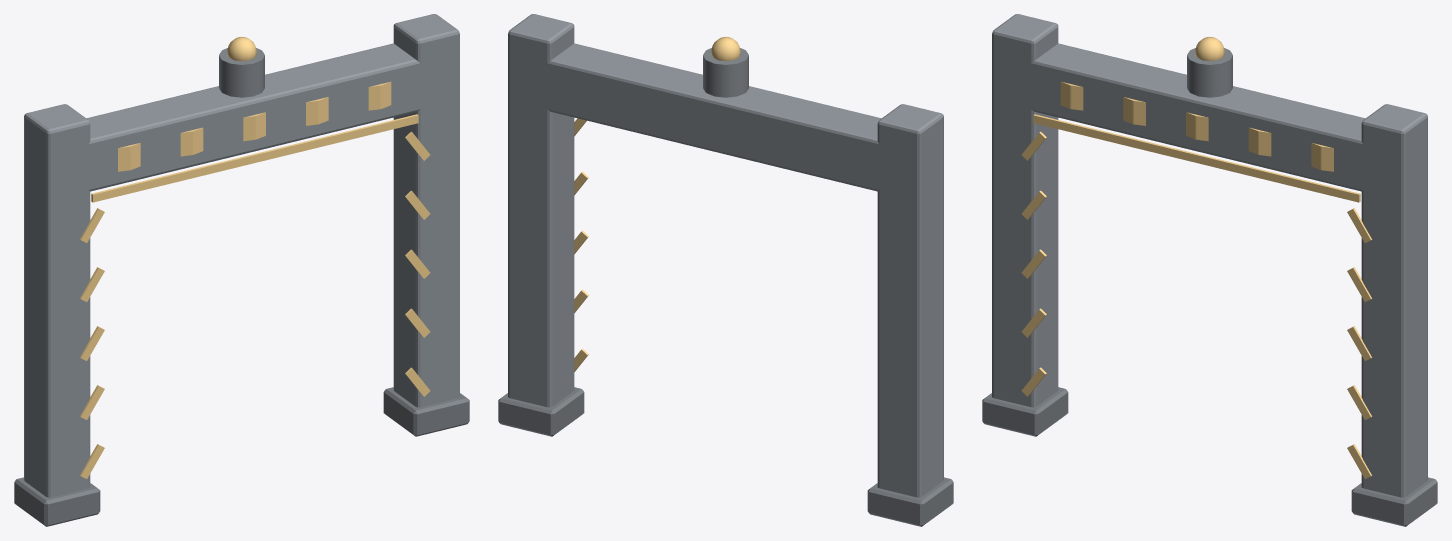
File: exit_arch.glb
3 views of the same model, side by side, from view 1: azimuth 30°, elevation 25°; view 2: azimuth 150°, elevation 25°; view 3: azimuth 330°, elevation 25° (orthographic).
Visible parts, largest first — view 1: steel, steel.002, steel.001, lit.010, steel*0.7, steel*0.001, steel*0.8, lit.015, lit.012, lit.016, lit.011, lit.013 (+1 smaller); view 2: steel, steel.002, steel.001, steel*0.7, steel*0.001, steel*0.8, lit.016; view 3: steel.001, steel, steel.002, lit.010, steel*0.001, steel*0.7, steel*0.8, lit.011, lit.014, lit.016, lit.015, lit.012 (+1 smaller).
Boxes of the visible parts, box(x1,y1,x2,y2) form: steel: box(24, 104, 90, 497); steel.002: box(46, 43, 459, 199); steel.001: box(393, 14, 459, 407); lit.010: box(91, 114, 418, 202); steel*0.7: box(14, 477, 100, 526); steel*0.001: box(383, 387, 469, 436); steel*0.8: box(219, 48, 264, 97); lit.015: box(368, 81, 391, 110); lit.012: box(180, 127, 203, 156); lit.016: box(227, 37, 256, 60); lit.011: box(118, 143, 140, 171); lit.013: box(243, 112, 265, 141); steel: box(877, 104, 943, 497); steel.002: box(516, 43, 943, 199); steel.001: box(508, 14, 574, 407); steel*0.7: box(867, 477, 953, 526); steel*0.001: box(498, 387, 584, 436); steel*0.8: box(703, 48, 748, 97); lit.016: box(711, 37, 740, 60); steel.001: box(1361, 104, 1427, 497); steel: box(992, 14, 1058, 407); steel.002: box(1000, 43, 1427, 199); lit.010: box(1033, 114, 1360, 202); steel*0.001: box(1351, 477, 1437, 526); steel*0.7: box(982, 387, 1068, 436); steel*0.8: box(1187, 48, 1232, 97); lit.011: box(1060, 81, 1083, 110); lit.014: box(1248, 127, 1271, 156); lit.016: box(1195, 37, 1224, 60); lit.015: box(1311, 143, 1333, 171); lit.012: box(1123, 97, 1145, 125).
Size of the model in its own units: 6.8 by 6.51 by 0.9.
